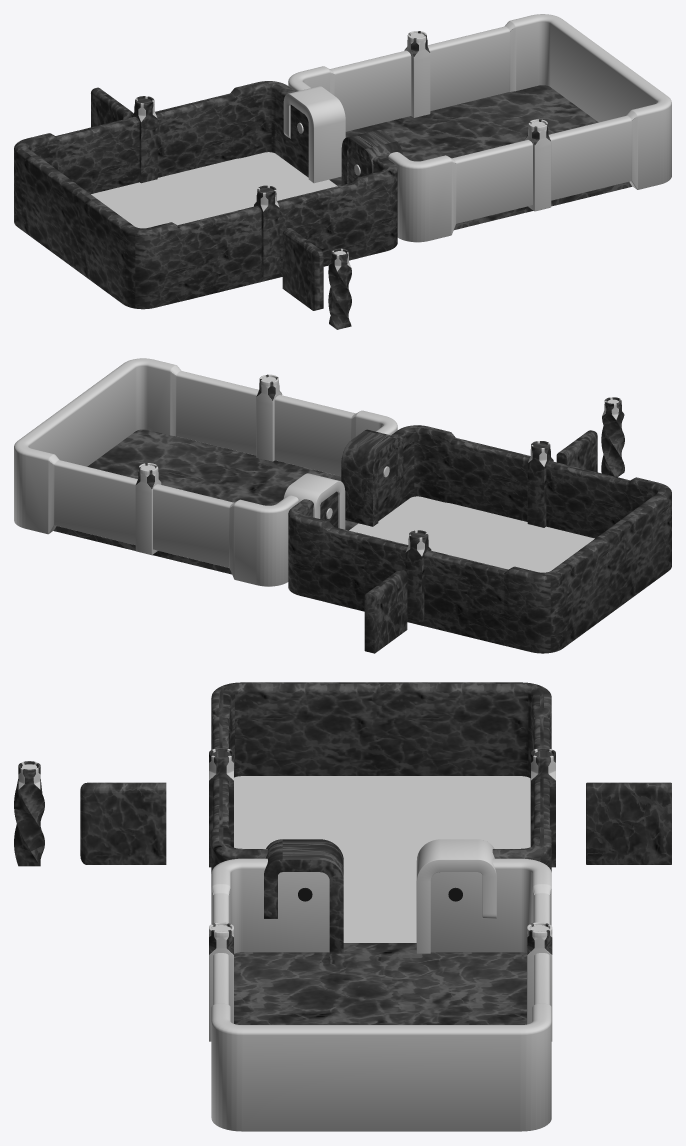
The model's file is Blocks.fbx.
The picture shows the model from 3 angles, top to bottom: view 1: azimuth 30°, elevation 25°; view 2: azimuth 150°, elevation 25°; view 3: azimuth 270°, elevation 25°; orthographic projection. The views are drawn at different scales.
Parts seen in each view (by area): view 1: Cube.003, Cube.010, Plane.001, Plane, Cube.009, Cube.001, Cube.012, Cube.011, Cube.013, Cube.015, Cube.008, Cube.014 (+1 smaller); view 2: Cube.003, Cube.010, Plane.001, Plane, Cube.014, Cube.002, Cube.008, Cube.011, Cube.013, Cube.012, Cube.015, Cube.009 (+1 smaller); view 3: Cube.010, Cube.003, Plane, Plane.001, Cube.001, Cube.002, Cube.009, Cube.014, Cube.015, Cube.008, Cube.013, Cube.012 (+1 smaller).
Part boxes in pixels (x1=…): Cube.003: x1=14, y1=81, x2=397, y2=309; Cube.010: x1=288, y1=14, x2=671, y2=242; Plane.001: x1=329, y1=85, x2=632, y2=229; Plane: x1=91, y1=152, x2=337, y2=228; Cube.009: x1=283, y1=86, x2=345, y2=183; Cube.001: x1=282, y1=228, x2=323, y2=310; Cube.012: x1=525, y1=119, x2=551, y2=211; Cube.011: x1=254, y1=185, x2=279, y2=277; Cube.013: x1=404, y1=31, x2=430, y2=117; Cube.015: x1=328, y1=248, x2=351, y2=329; Cube.008: x1=131, y1=96, x2=157, y2=183; Cube.014: x1=341, y1=129, x2=403, y2=184; Cube.003: x1=288, y1=425, x2=671, y2=653; Cube.010: x1=14, y1=358, x2=397, y2=586; Plane.001: x1=53, y1=429, x2=358, y2=574; Plane: x1=349, y1=496, x2=594, y2=572; Cube.014: x1=341, y1=429, x2=403, y2=526; Cube.002: x1=364, y1=569, x2=407, y2=653; Cube.008: x1=405, y1=530, x2=431, y2=622; Cube.011: x1=527, y1=441, x2=553, y2=527; Cube.013: x1=135, y1=463, x2=161, y2=555; Cube.012: x1=256, y1=374, x2=282, y2=461; Cube.015: x1=601, y1=397, x2=624, y2=477; Cube.009: x1=283, y1=473, x2=345, y2=529; Cube.010: x1=211, y1=858, x2=551, y2=1131; Cube.003: x1=211, y1=682, x2=551, y2=873; Plane: x1=234, y1=776, x2=530, y2=942; Plane.001: x1=234, y1=943, x2=526, y2=1024; Cube.001: x1=80, y1=782, x2=166, y2=864; Cube.002: x1=586, y1=782, x2=671, y2=864; Cube.009: x1=416, y1=839, x2=496, y2=953; Cube.014: x1=264, y1=839, x2=343, y2=953; Cube.015: x1=14, y1=761, x2=44, y2=866; Cube.008: x1=530, y1=748, x2=555, y2=867; Cube.013: x1=527, y1=922, x2=552, y2=1041; Cube.012: x1=209, y1=922, x2=233, y2=1041.
Bounding box in the file's own units: 1931 × 300 × 1531.
